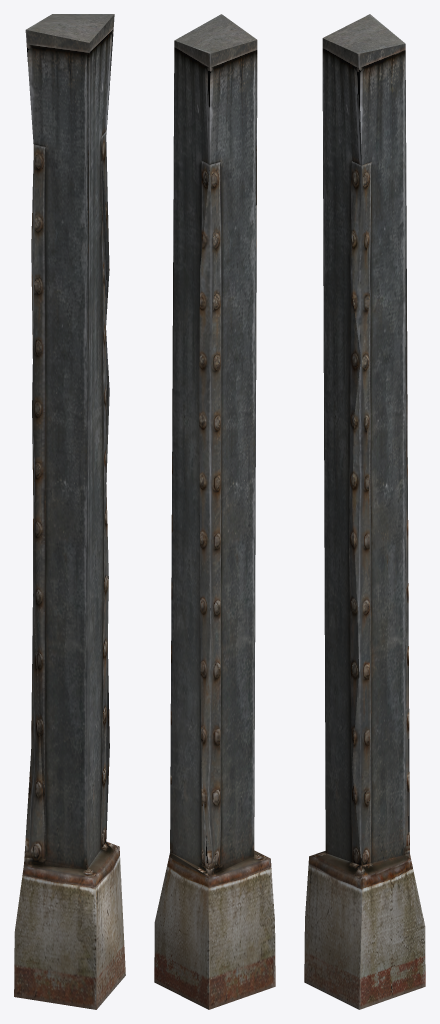
File: corner-assembly.glb
3 renders of one model, left to right at view 1: azimuth 90°, elevation 25°; view 2: azimuth 150°, elevation 25°; view 3: azimuth 330°, elevation 25°, orthographic.
Visible parts, largest first — view 1: corner-assembly; view 2: corner-assembly; view 3: corner-assembly.
Part boxes in pixels (x1,y1,x2,y2): corner-assembly: (14, 14, 125, 1009); corner-assembly: (154, 14, 275, 1009); corner-assembly: (304, 14, 425, 1009).
Bounding box in the file's own units: 0.42 × 4 × 0.42.
Materials: 1 (1 with a texture image).
